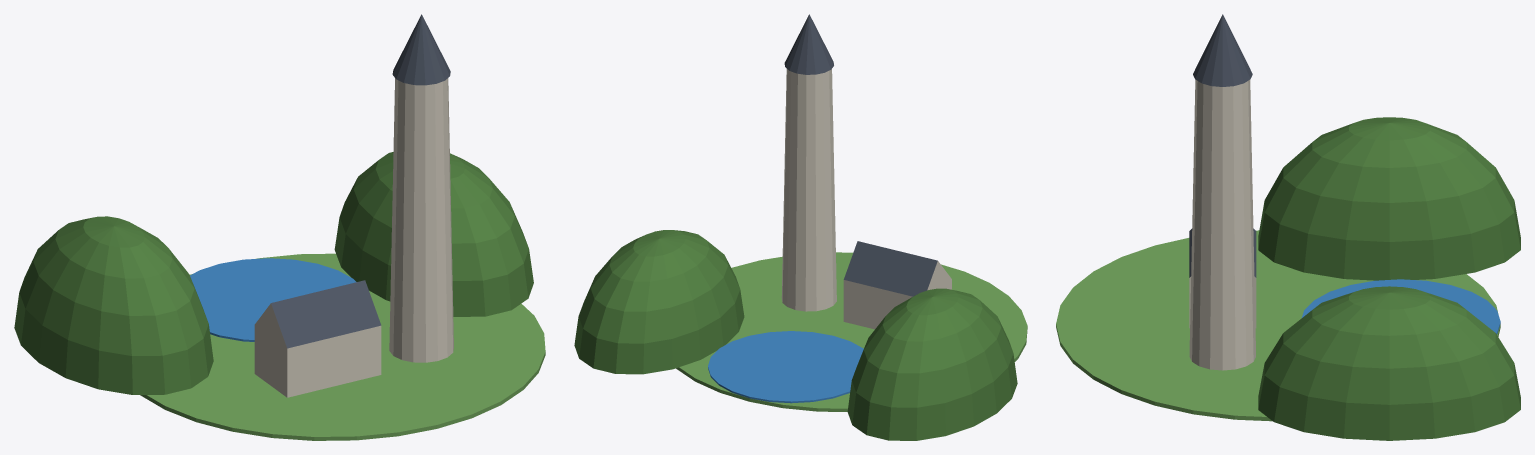
Rendered from glendalough.glb.
3 views of the same model, side by side, from view 1: azimuth 30°, elevation 25°; view 2: azimuth 150°, elevation 25°; view 3: azimuth 270°, elevation 25° (orthographic). The views are drawn at different scales.
Bounding box in the file's own units: 2.5 × 1.72 × 2.09.
